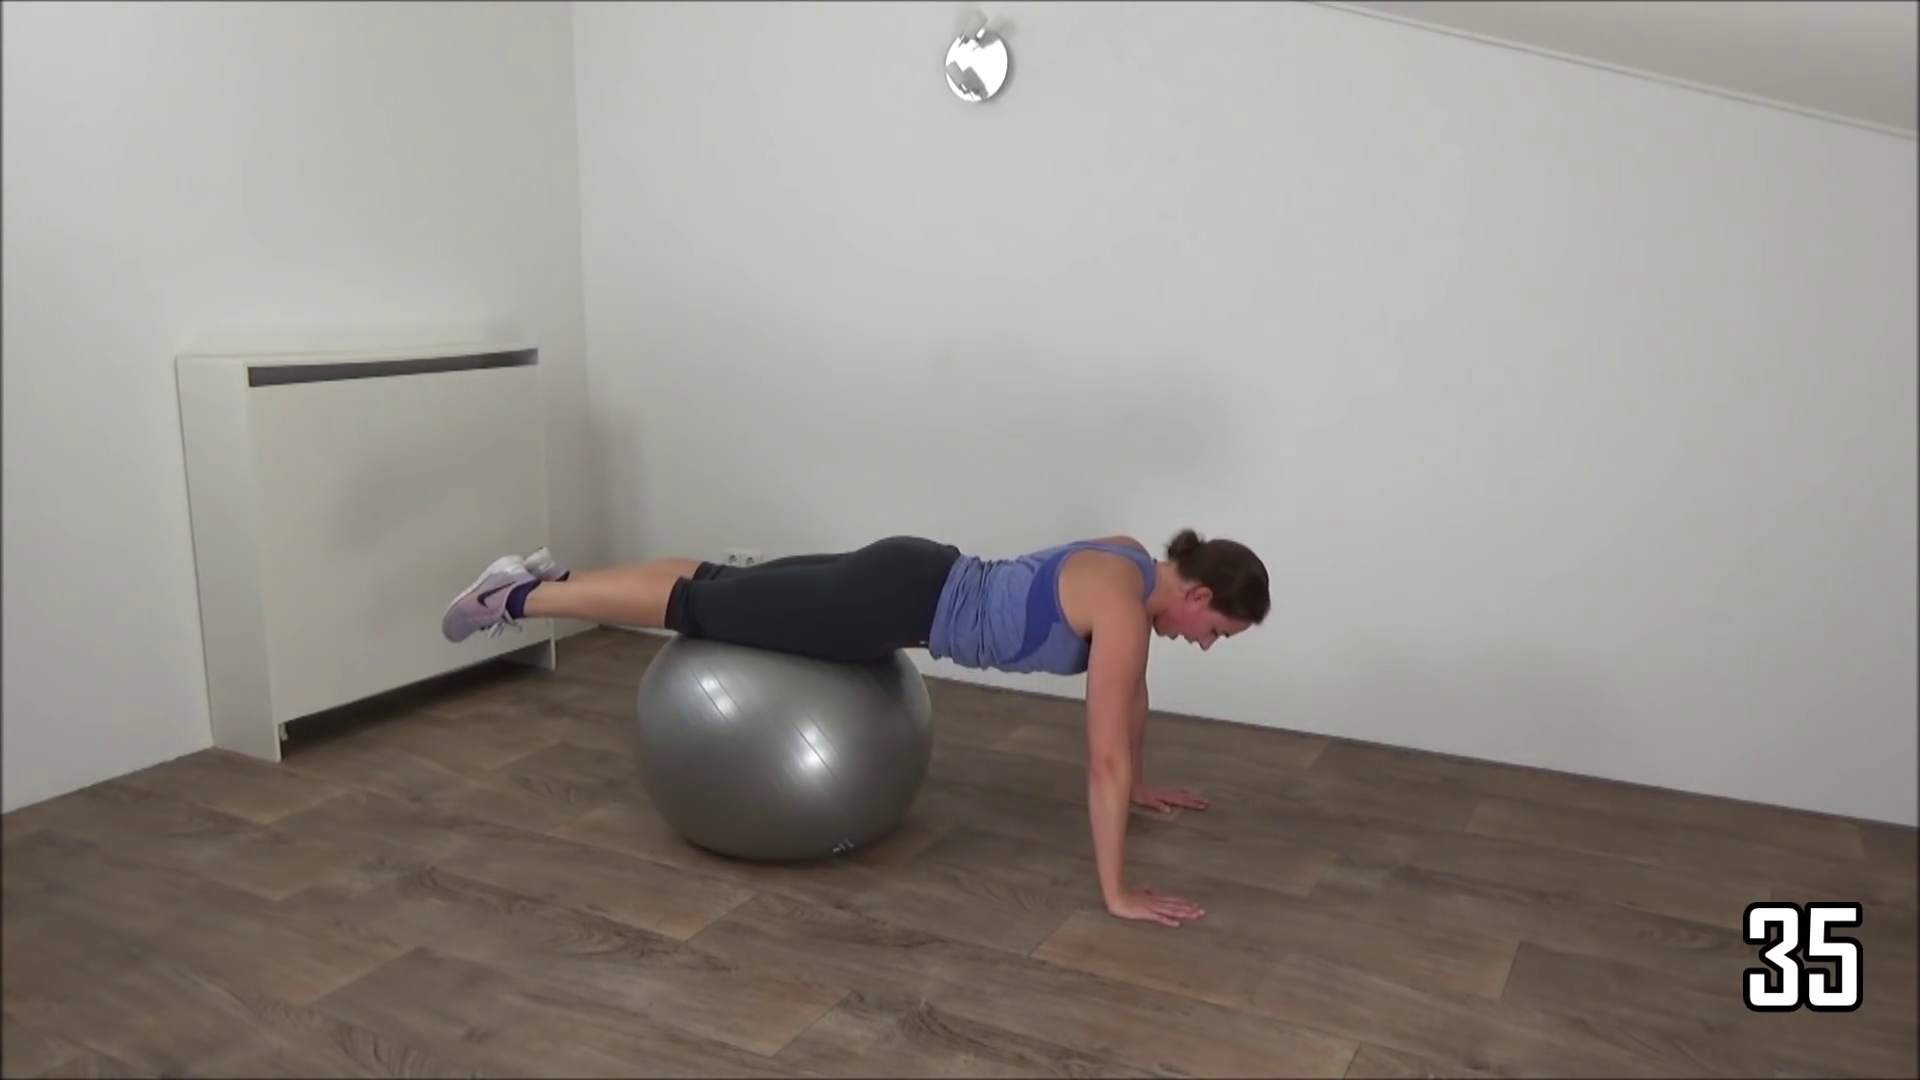yogaball: (587, 611, 963, 873)
